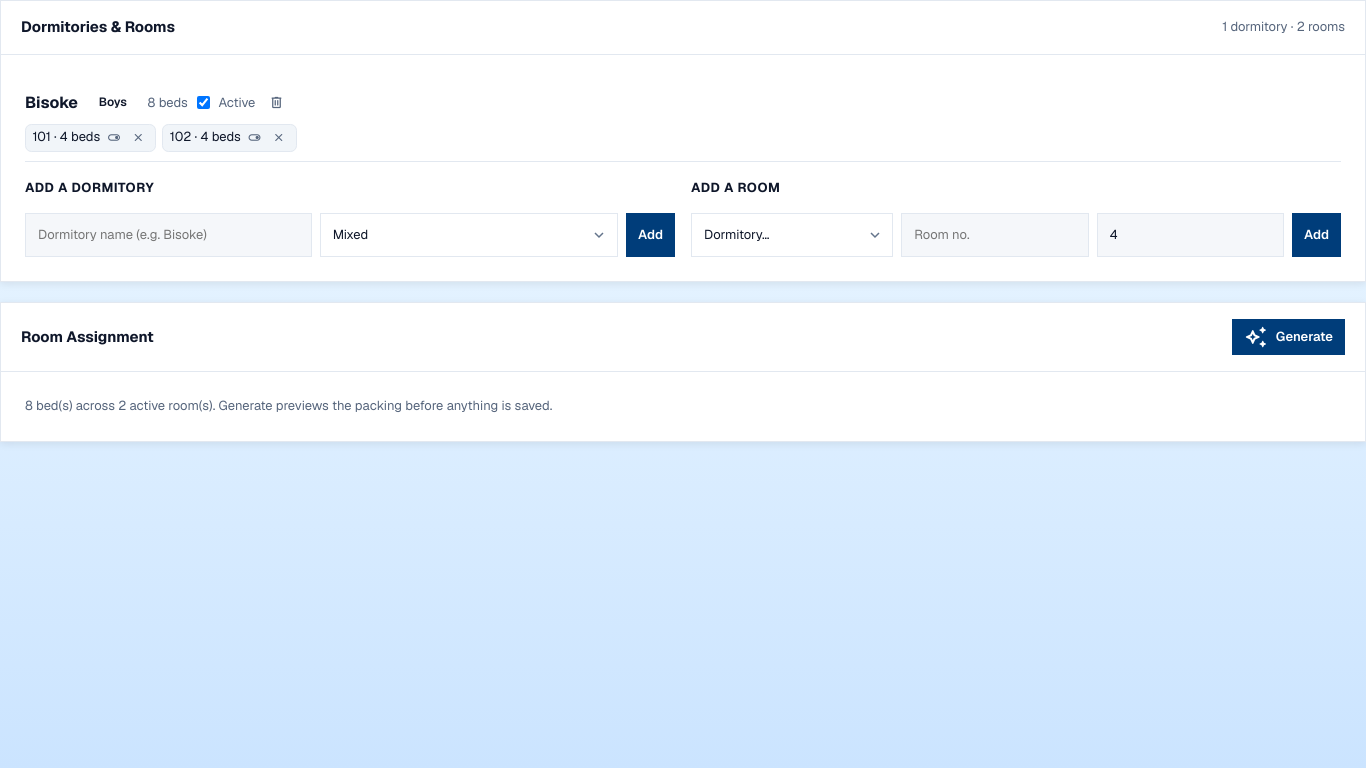
DormPlannerTab › surfaces a generator error instead of failing silently
Check: the text "101 · 4 beds" is shown, box [25,124,156,152]
Click the button "Generate".
click(1288, 337)  # box [1232,319,1345,355]
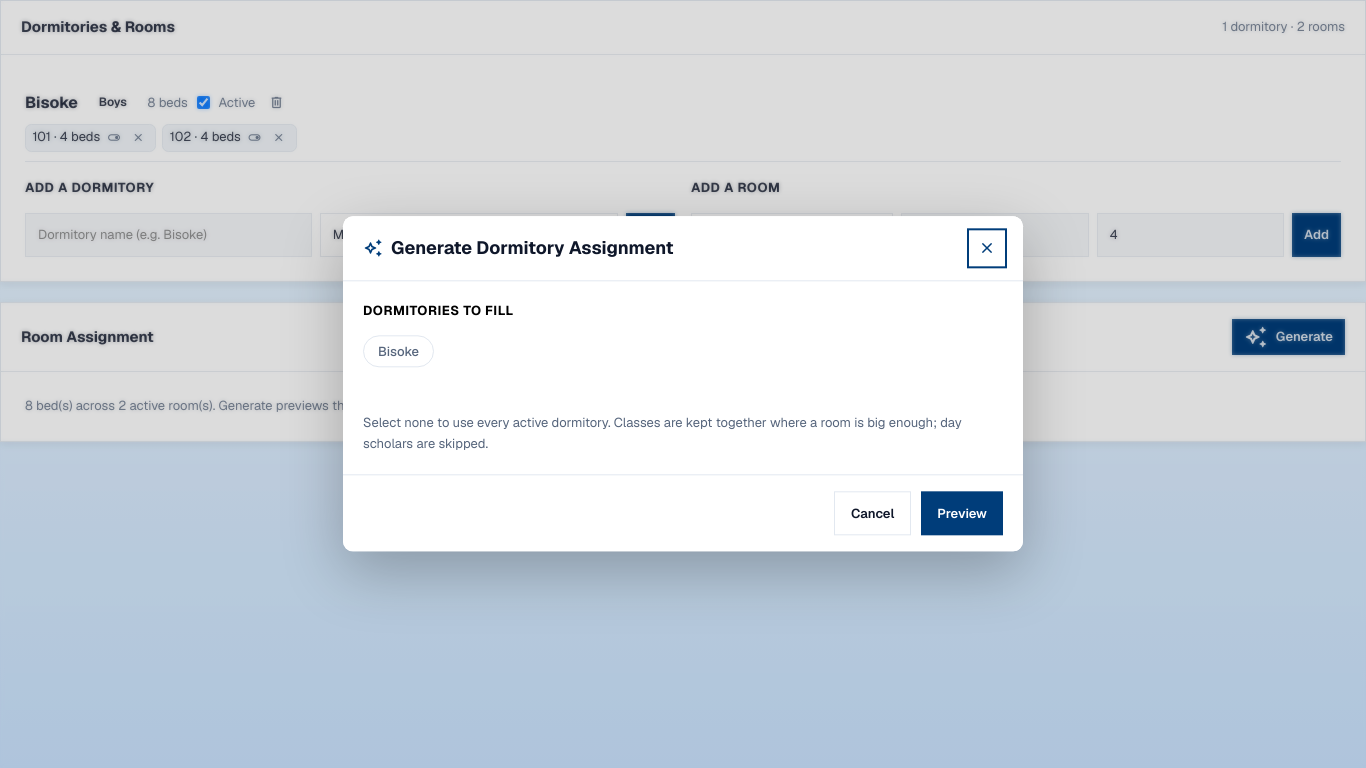
Click the button "Preview".
click(962, 514)  # box [921,492,1003,536]
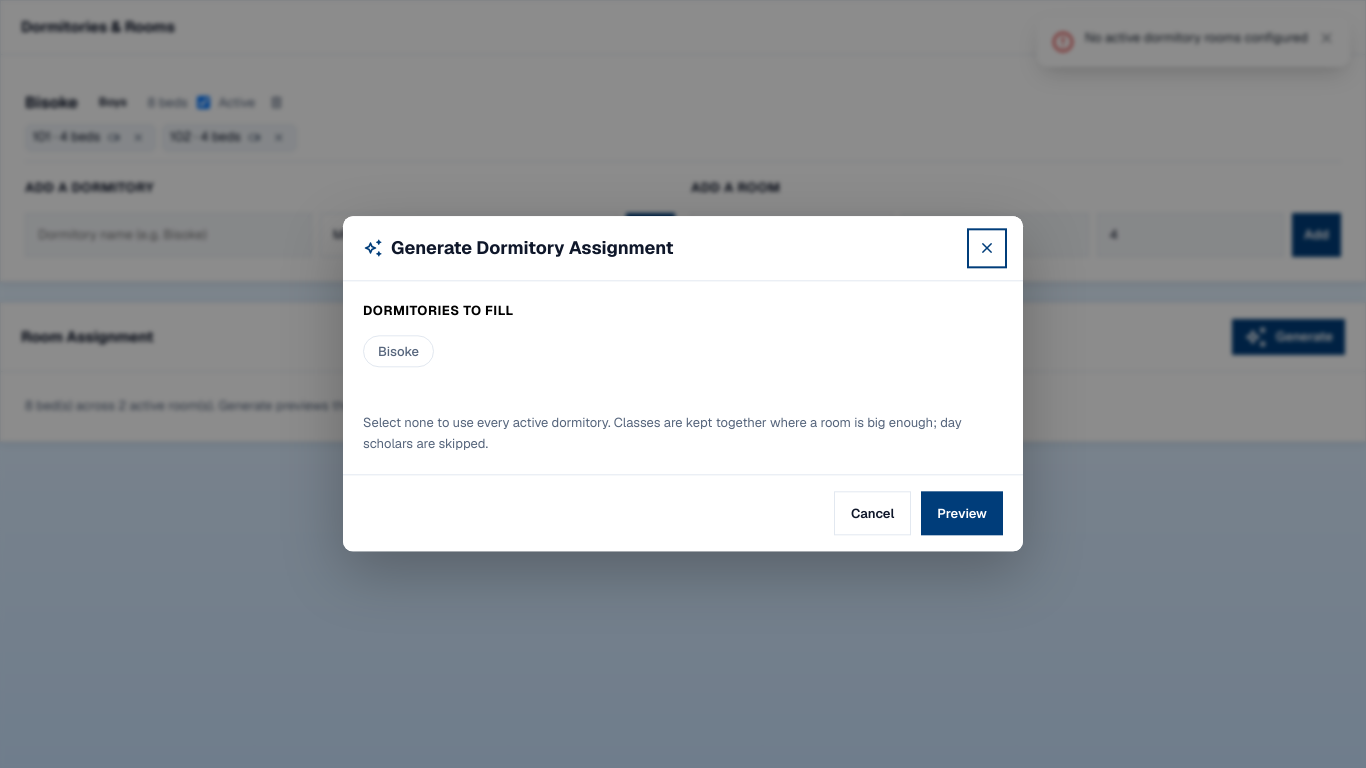
Check: the text "No active dormitory rooms configured" is shown, box [1085,29,1308,47]
